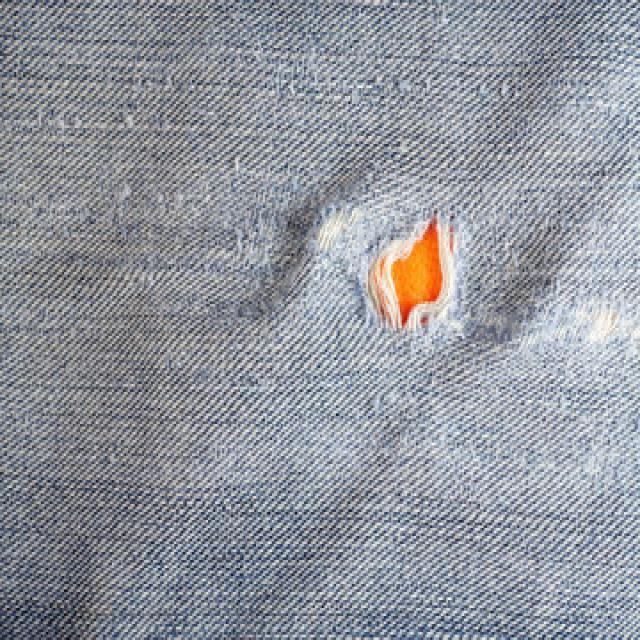Hole: (369, 212, 456, 327), (369, 214, 456, 327)
